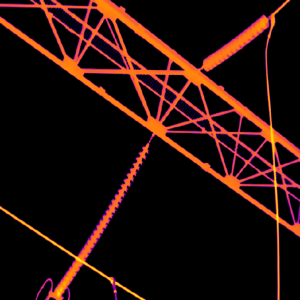insulator: (52, 141, 150, 296), (202, 10, 269, 73)
